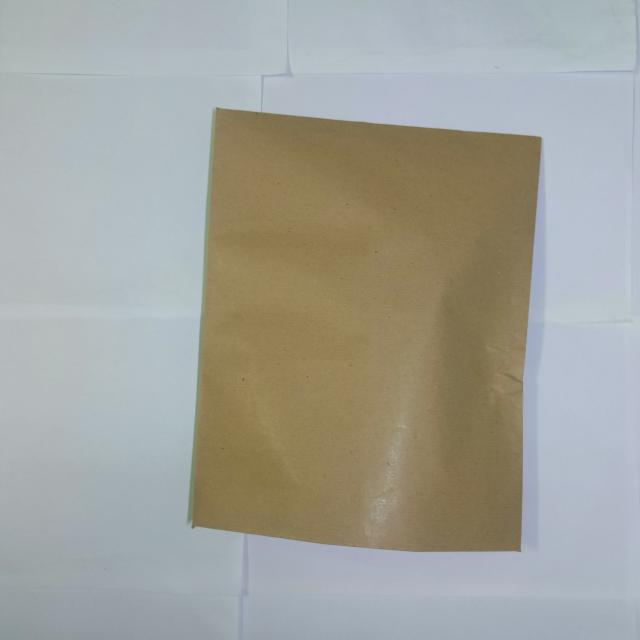box: (197, 109, 540, 546)
